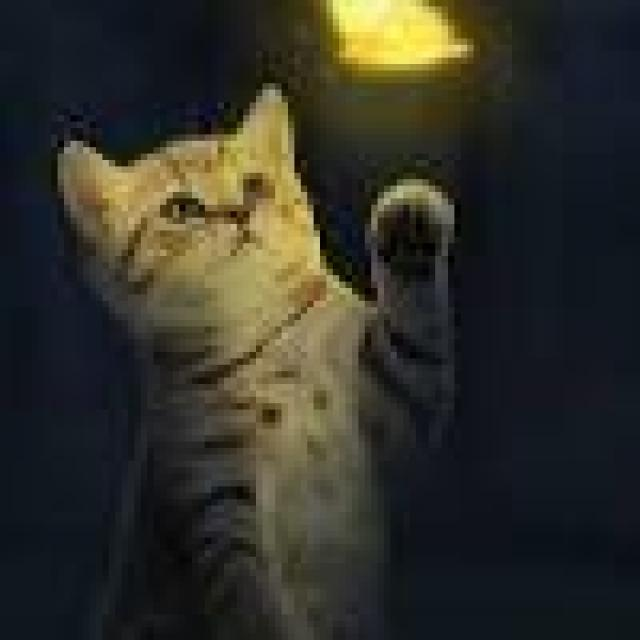Cat: (51, 83, 462, 639)
